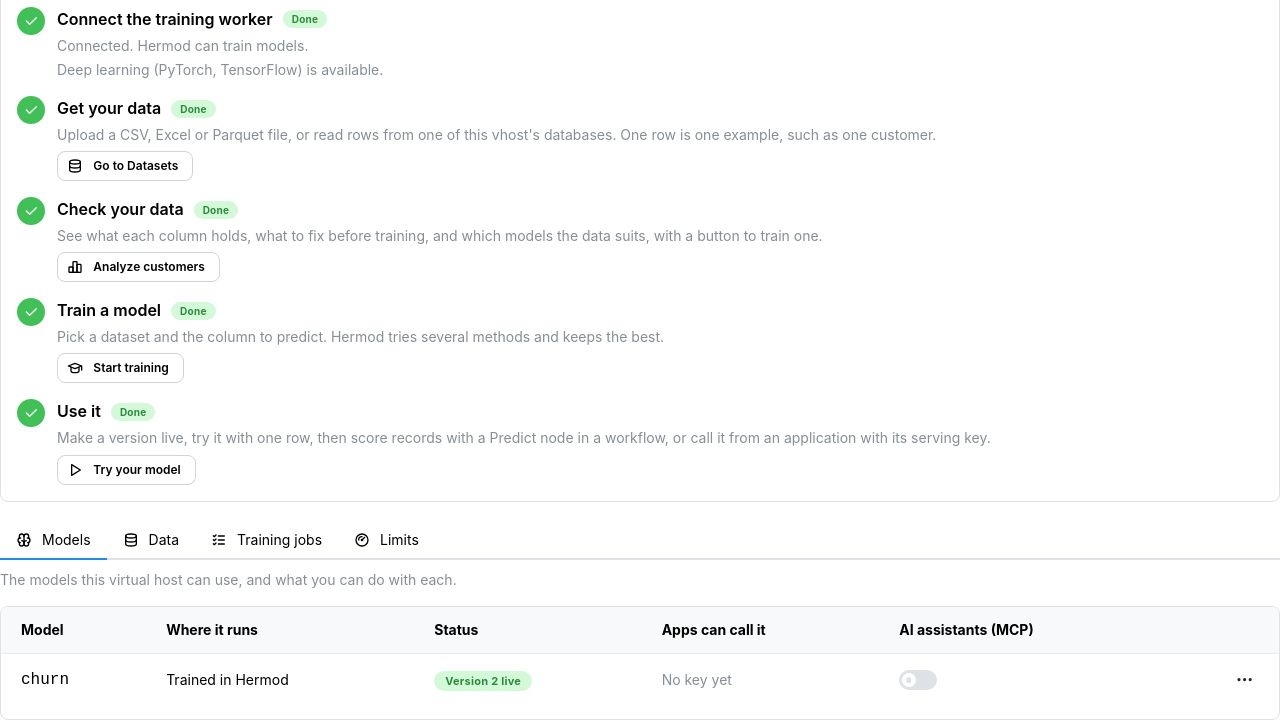
Test: Retraining on the Models page › asks for a schedule or a row count before saving
The width and height of the screenshot is (1280, 720).
(page scrolled)
Click the button named "More actions for churn" at coordinates (1245, 680), box [1231, 666, 1259, 694]
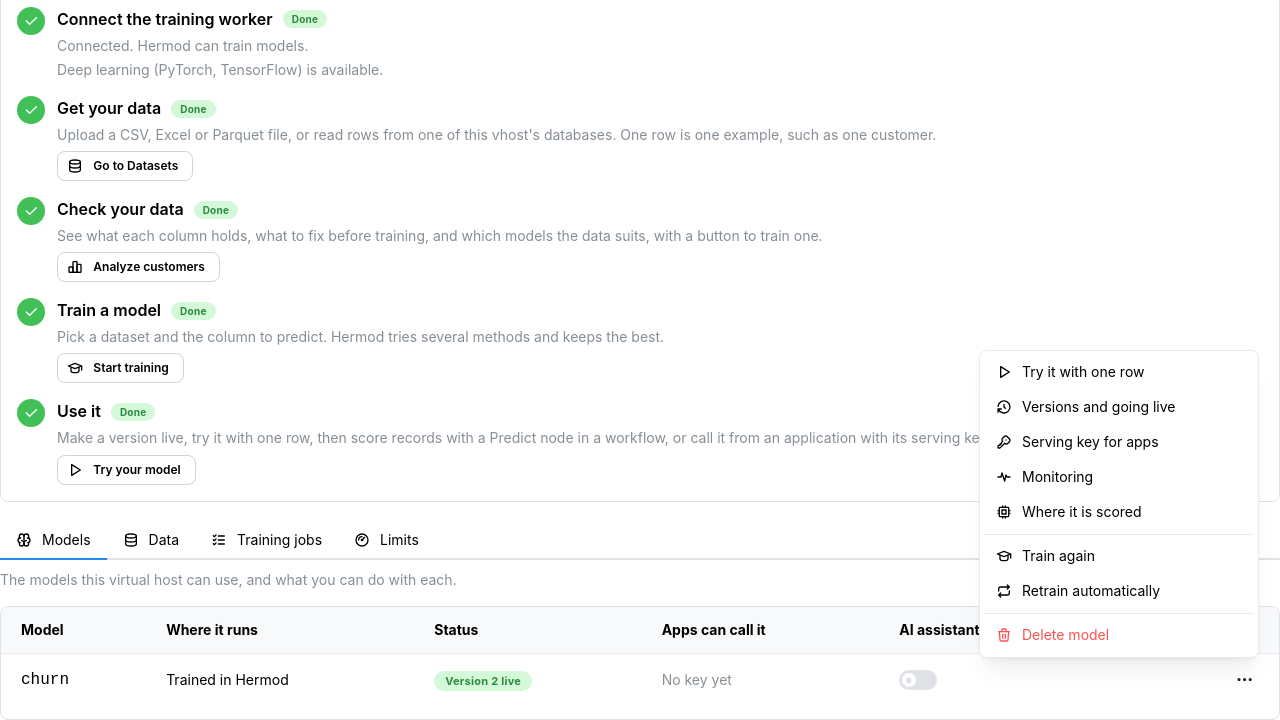
Result: the menu item "Retrain automatically" is enabled
Click the menu item "Retrain automatically" at coordinates (1119, 591), box [984, 574, 1254, 608]
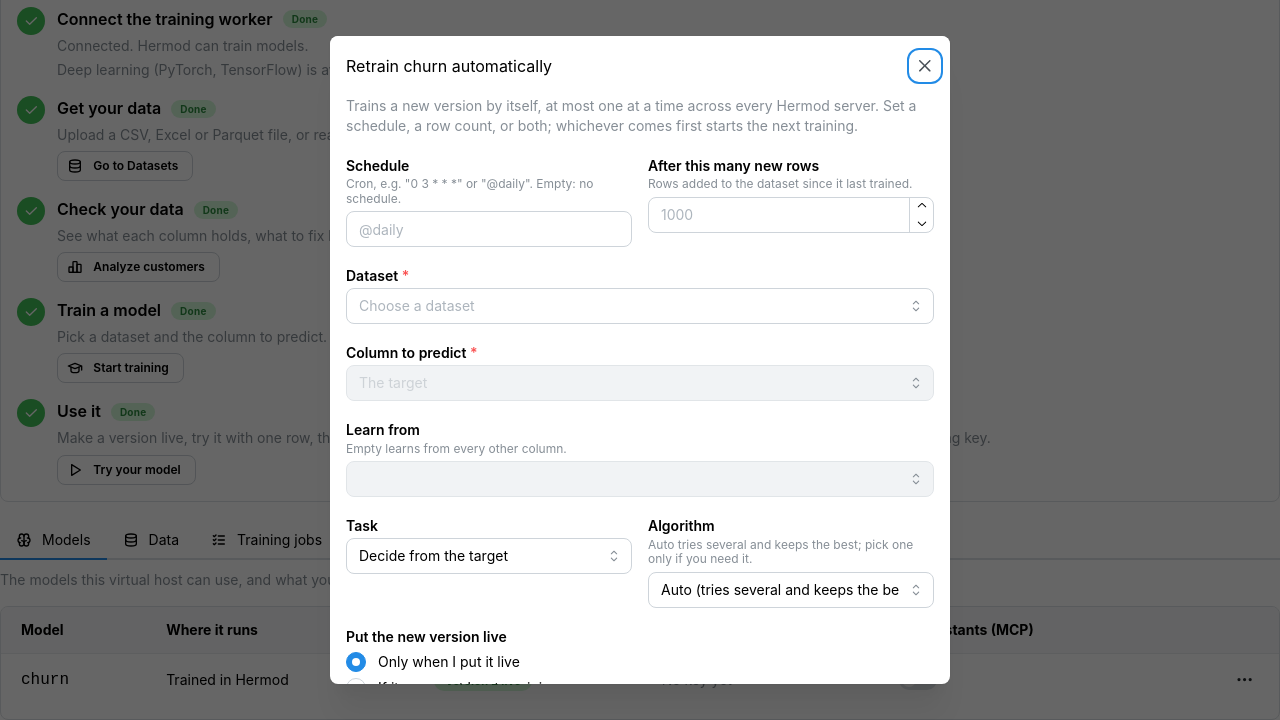
Click the dropdown labelled "Dataset *" at coordinates (640, 306), box [346, 288, 934, 324]
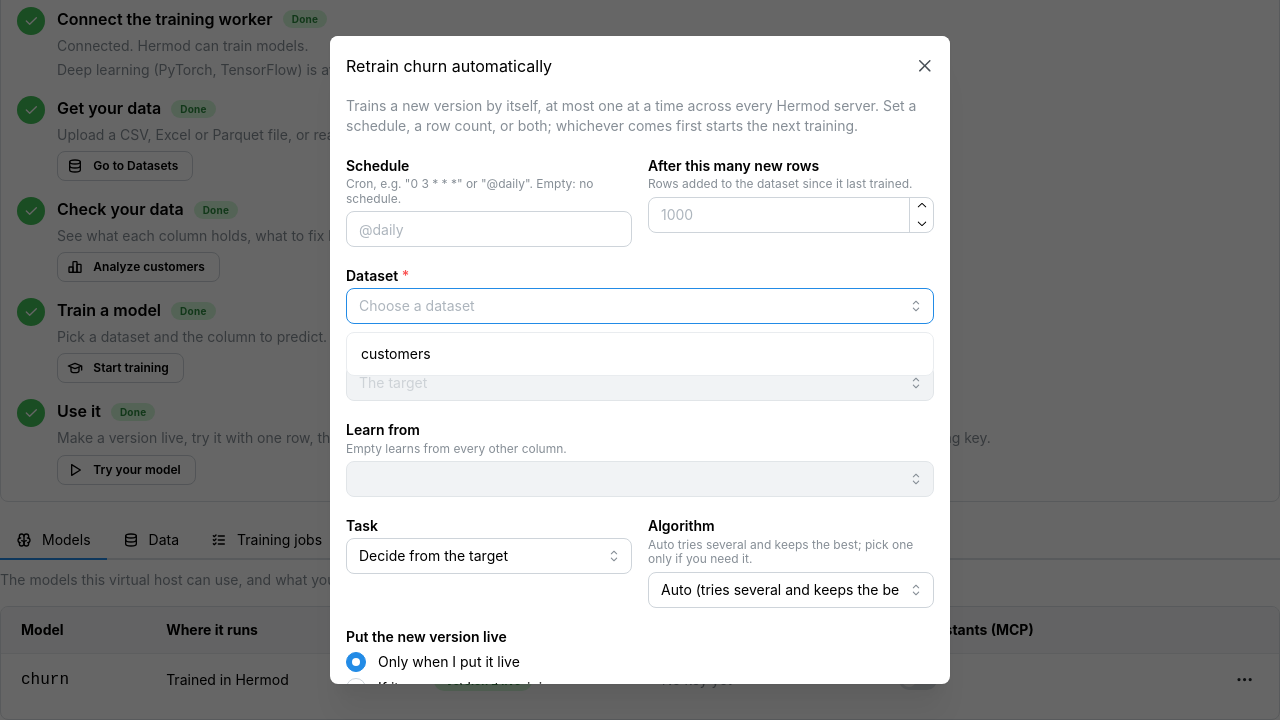
Click the option "customers" at coordinates (396, 354), box [361, 345, 431, 362]
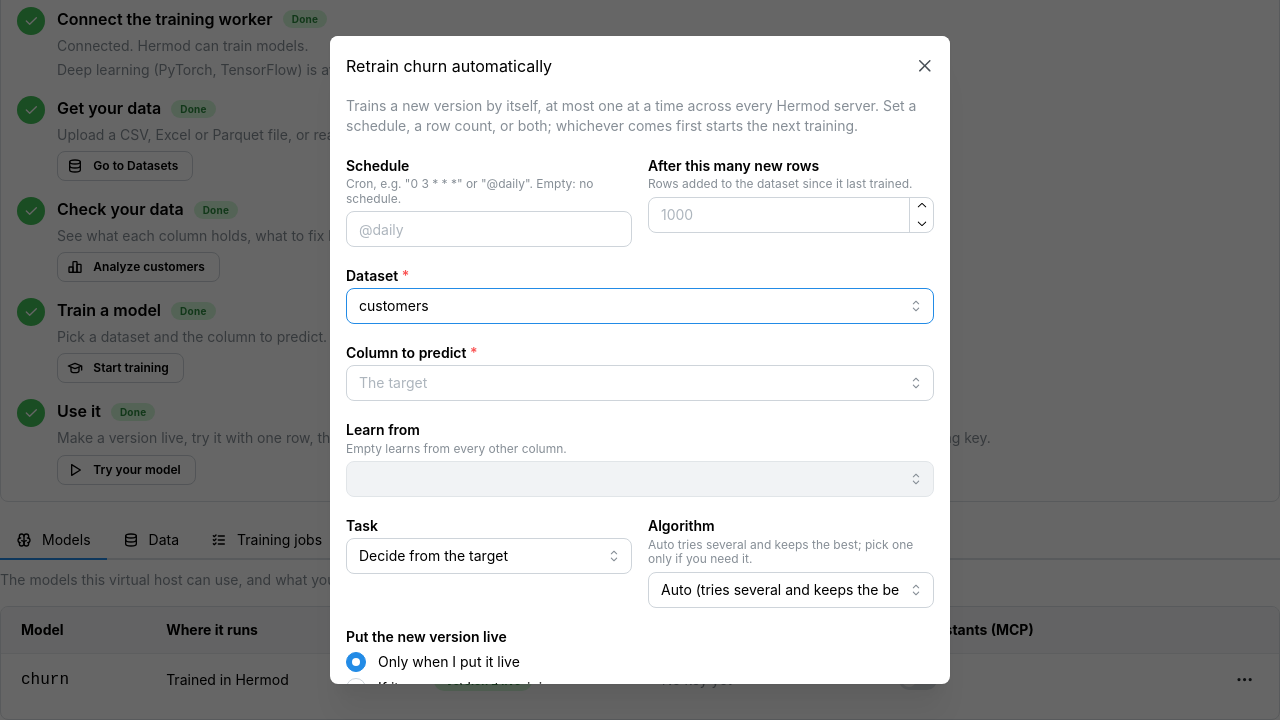
Click the dropdown labelled "Column to predict *" at coordinates (640, 383), box [346, 365, 934, 401]
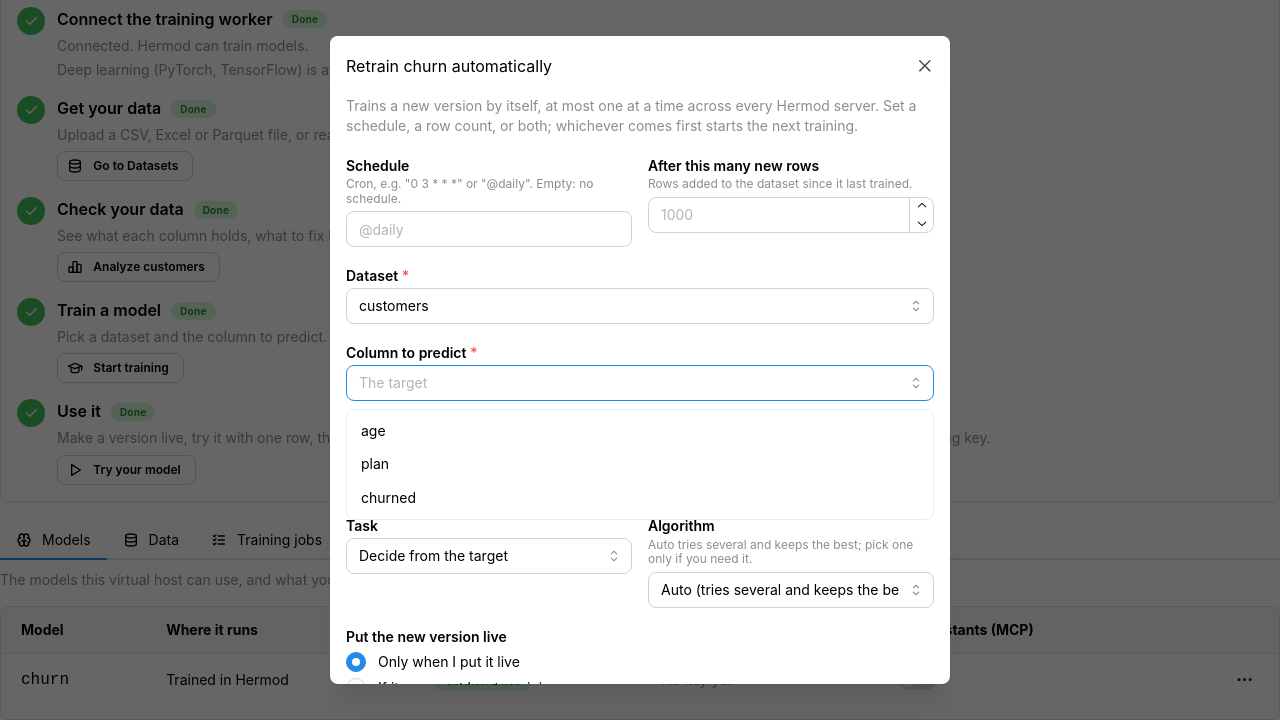
Click the option "churned" at coordinates (389, 498), box [361, 489, 416, 506]
(page scrolled)
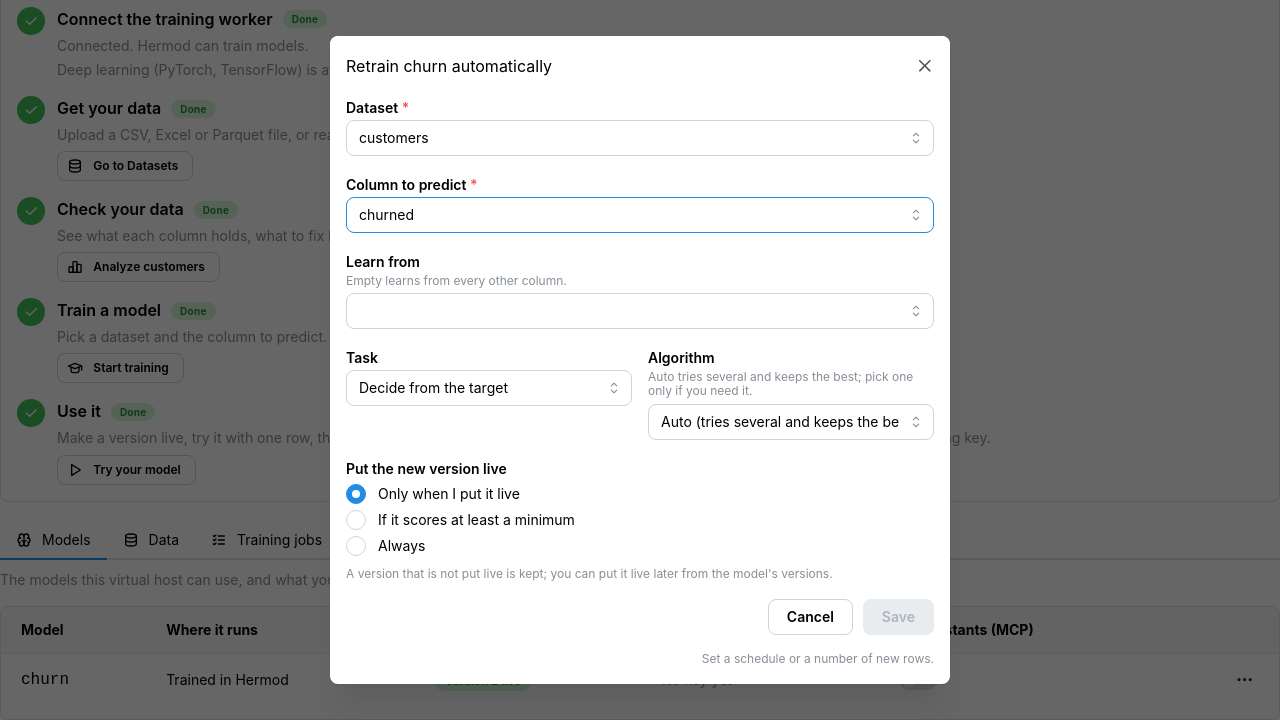
Result: the button "Save" is disabled at [863, 599, 934, 635]
